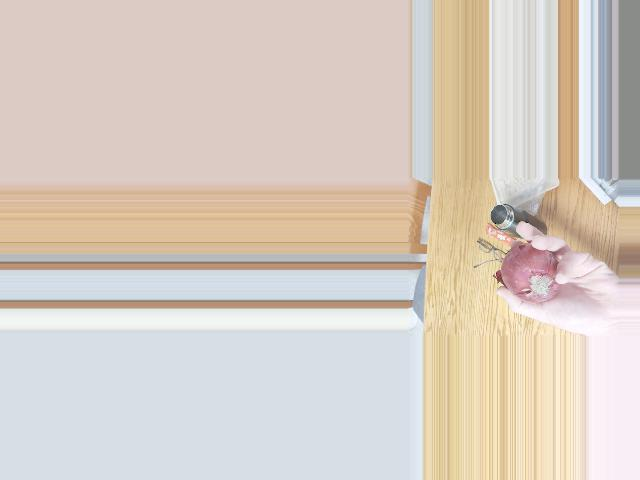onion: (508, 244, 561, 304)
